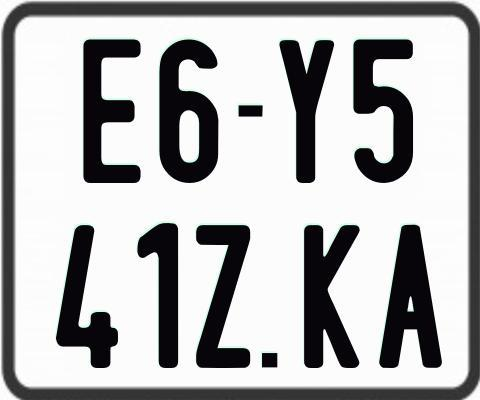1: (136, 221, 180, 369)
4: (54, 224, 120, 367)
5: (352, 39, 416, 183)
6: (157, 37, 219, 183)
A: (377, 222, 442, 368)
E: (83, 36, 147, 184)
K: (301, 225, 360, 370)
Y: (276, 37, 336, 184)
Z: (194, 224, 250, 372)
